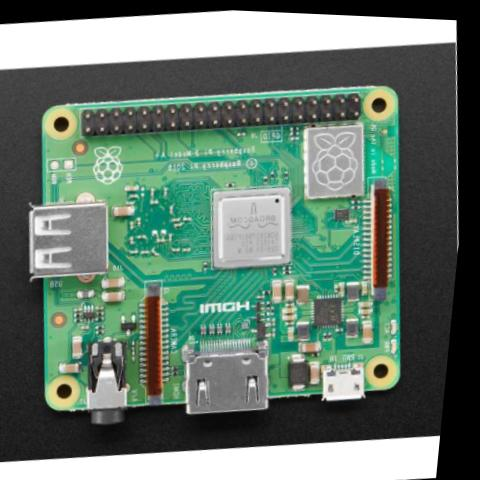Raspberry-Pi-3-Model-A-: (0, 54, 444, 451)
